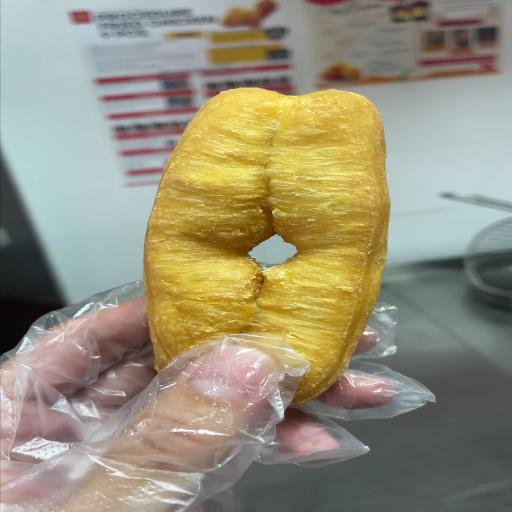brand_golden_defect: (144, 88, 389, 404)
